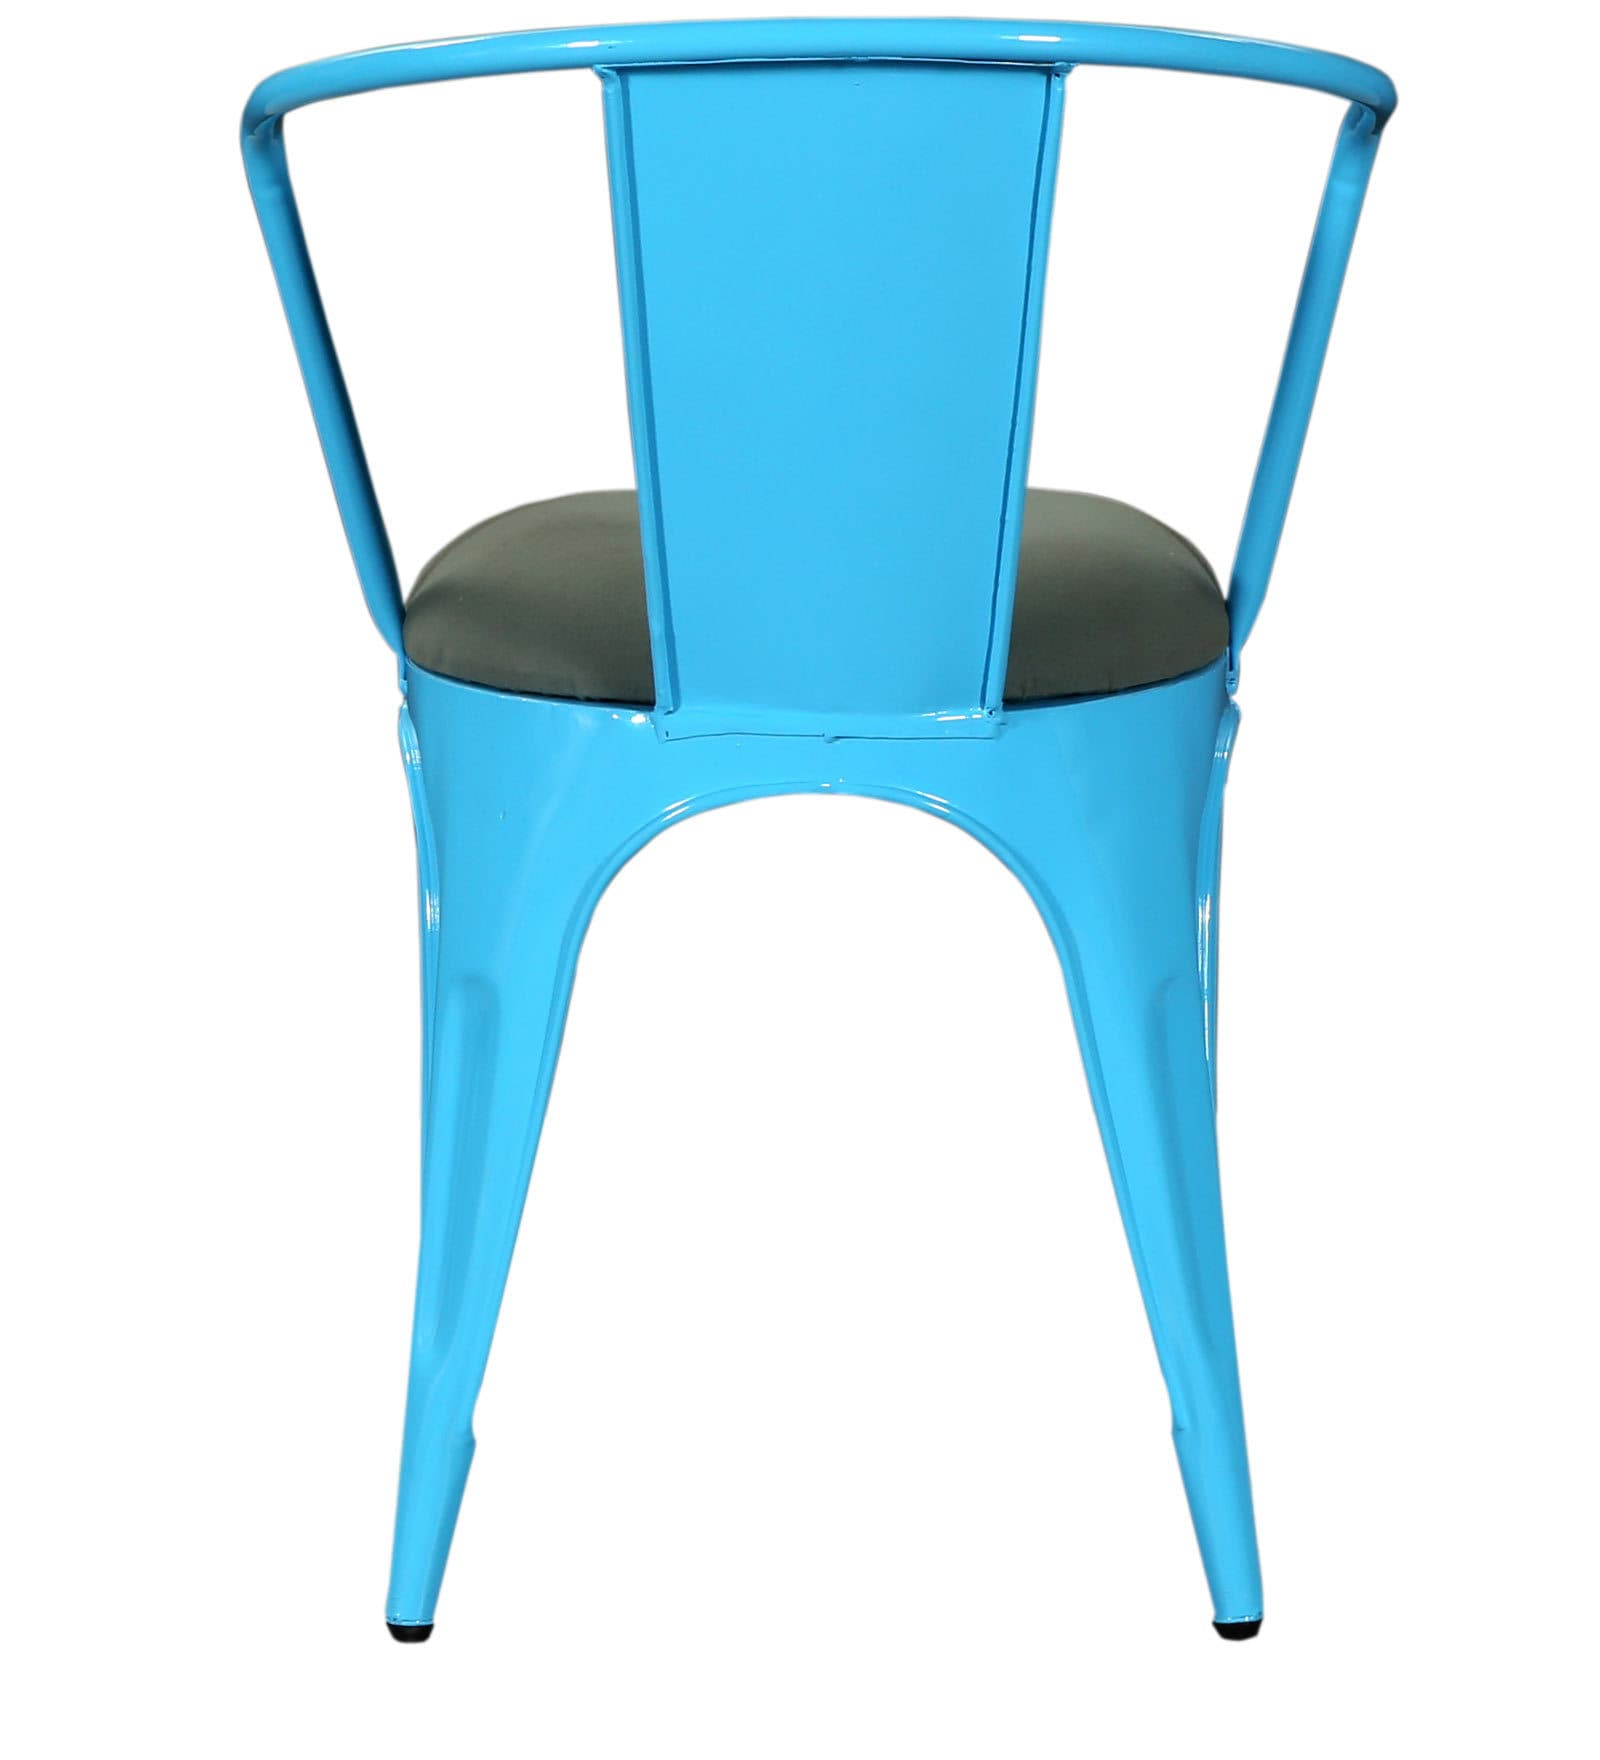Danlou Metal Chair with Cushion in Blue Colour by Bohemiana: (198, 8, 1401, 1682)
